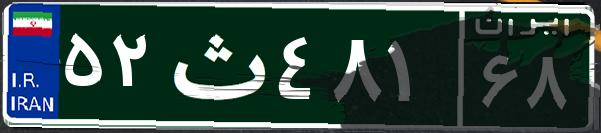1: (385, 28, 445, 110)
2: (110, 28, 158, 105)
4: (273, 28, 330, 110)
5: (57, 26, 110, 107)
6: (475, 38, 525, 113)
8: (330, 28, 385, 110), (525, 38, 570, 115)
ث: (158, 15, 273, 115)
